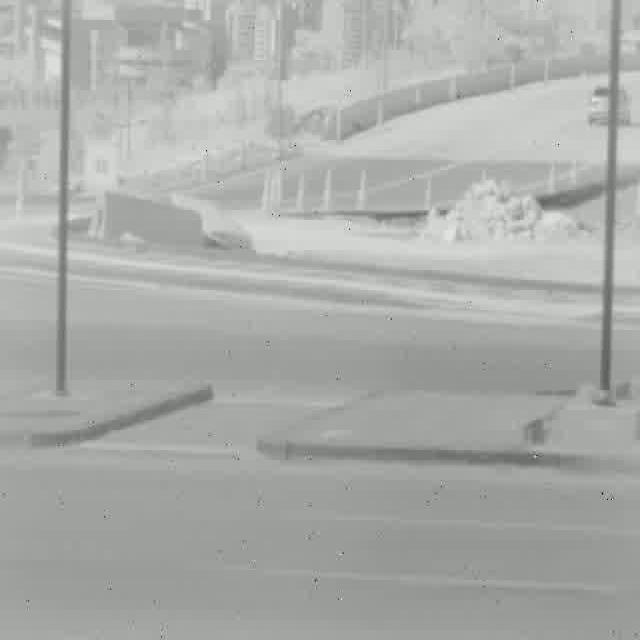Car: (588, 86, 632, 128)
